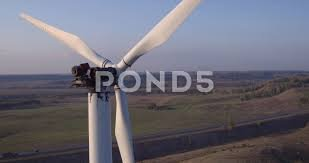faulty: (55, 38, 129, 106)
